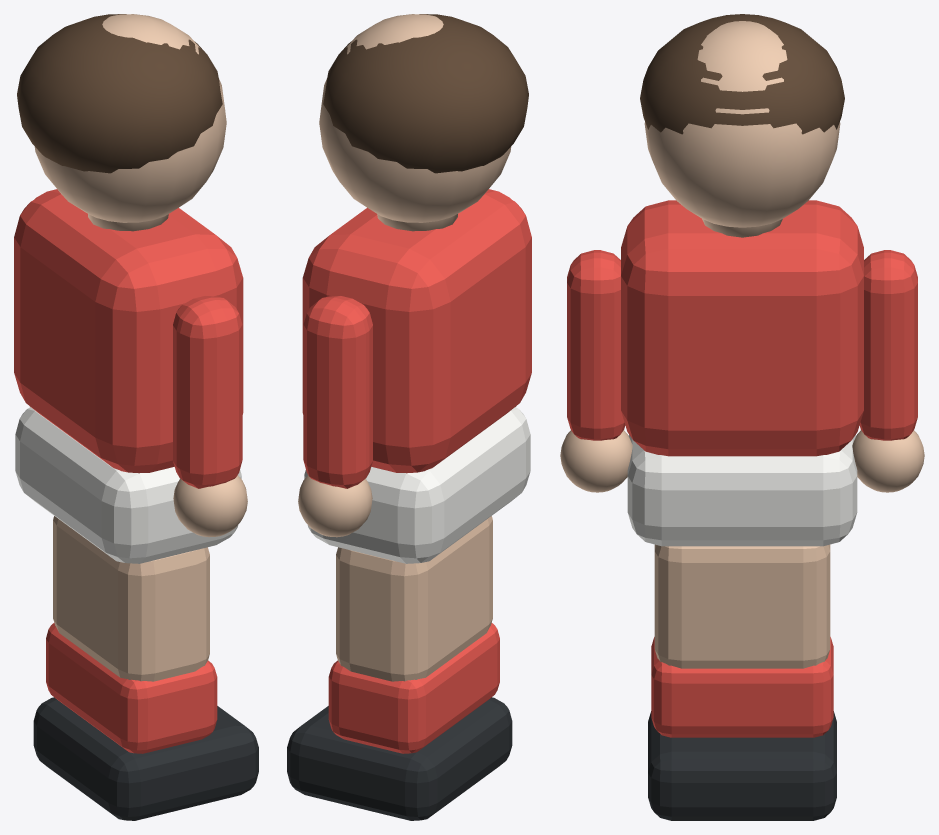
Rendered from omino.glb.
3 views of the same model, side by side, from view 1: azimuth 30°, elevation 25°; view 2: azimuth 150°, elevation 25°; view 3: azimuth 270°, elevation 25° (orthographic).
Parts seen in each view (by area): view 1: omino; view 2: omino; view 3: omino.
Part boxes in pixels (box(x1,y1,x2,y2)): omino: box(14, 14, 258, 820); omino: box(287, 14, 531, 820); omino: box(560, 14, 924, 820).
Size of the model in its own units: 0.0322 by 0.1237 by 0.054.
